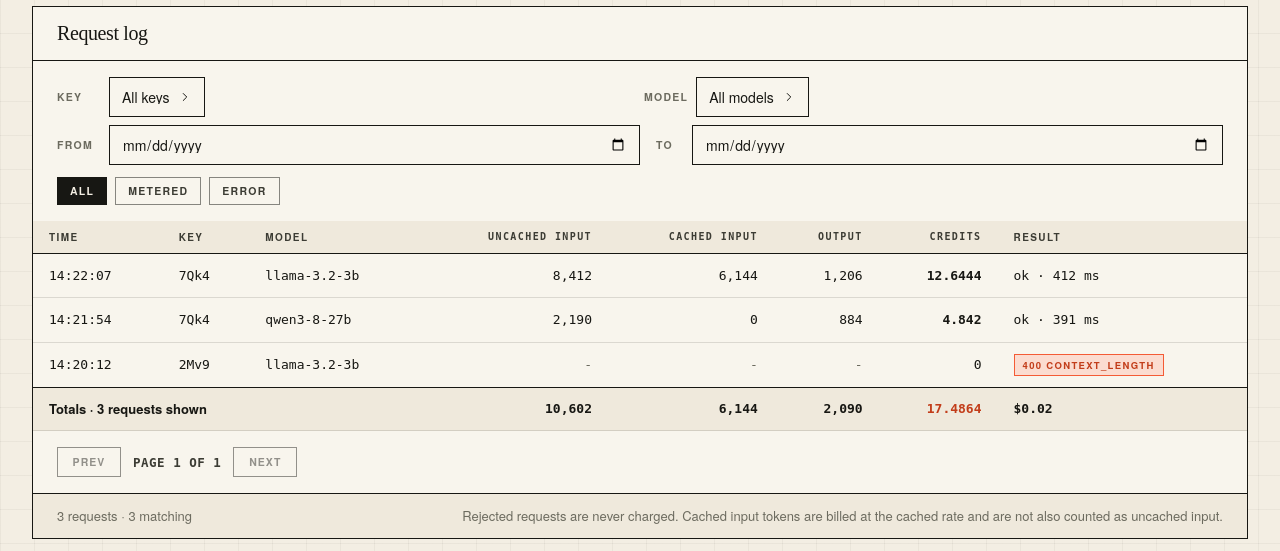
Scenario: UsageComponent › clicking Metered shows exactly the settled rows and issues no request
(page scrolled)
expect the row "14:20:12 2Mv9 llama-3.2-3b - - - 0 400 context_length" is shown: met, box [33,342,1247,388]
Click the button with class "txn-filter" showing "Metered". click: coordinates (158, 191)
box: [115,177,201,205]
(page scrolled)
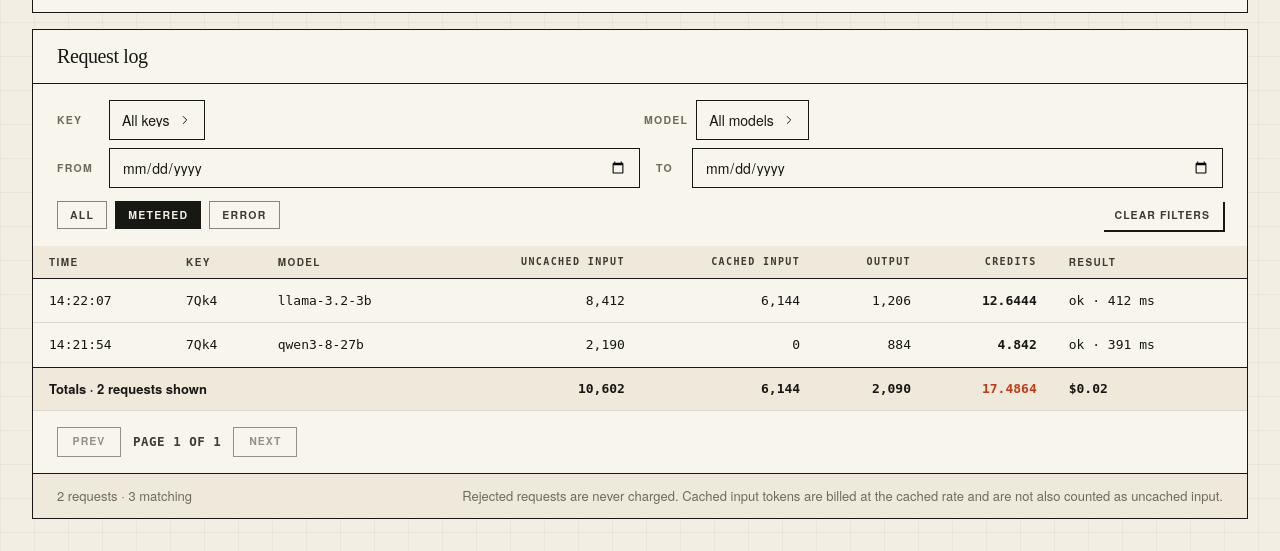
Click the button with class "txn-filter" showing "Error". click: coordinates (244, 215)
box: [209,201,280,229]
(page scrolled)
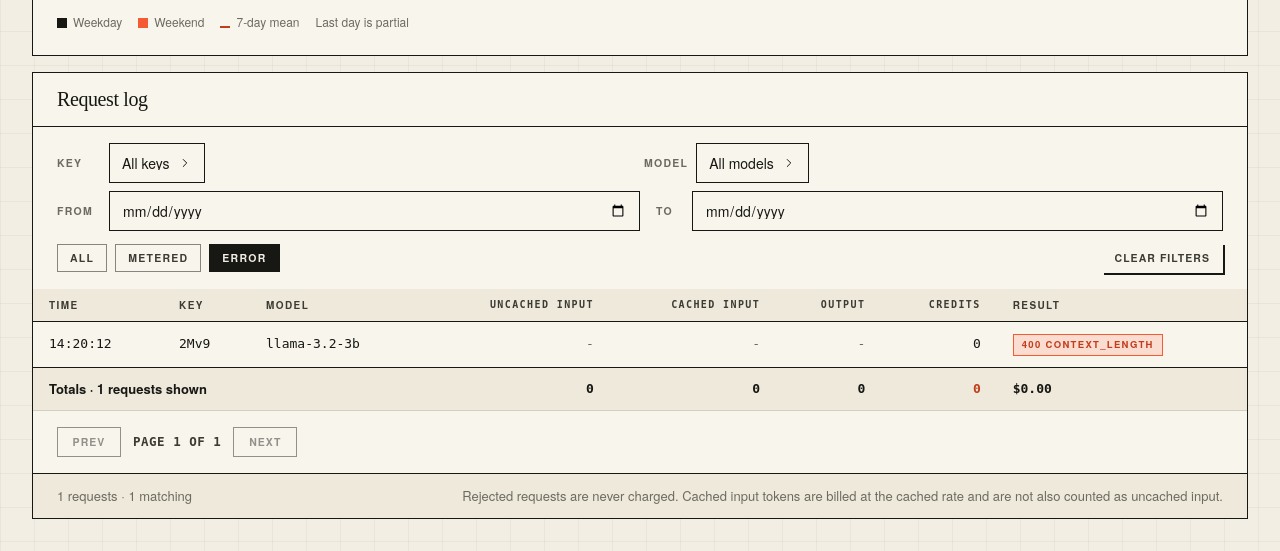
expect the row "14:20:12 2Mv9 llama-3.2-3b - - - 0 400 context_length" is shown: met, box [33,322,1247,367]
